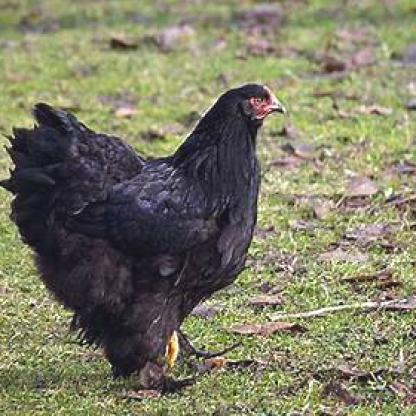chicken: (0, 80, 290, 382)
